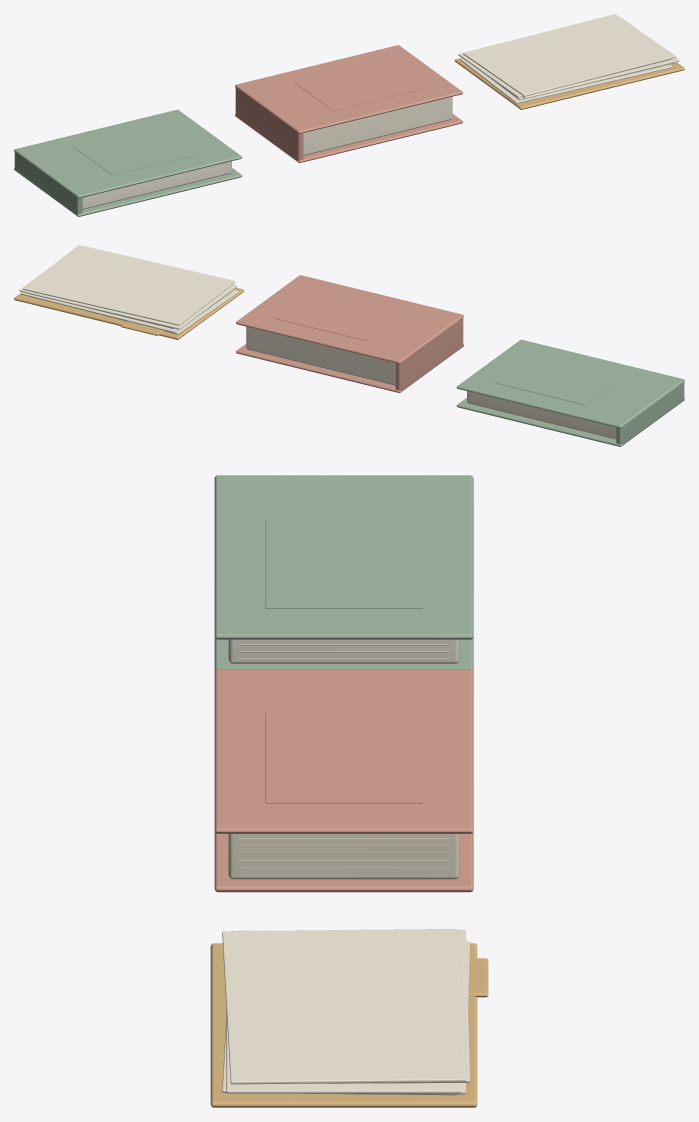
The model's file is lesson-stacks.glb.
3 views of the same model, one above another, from view 1: azimuth 30°, elevation 25°; view 2: azimuth 150°, elevation 25°; view 3: azimuth 270°, elevation 25° (orthographic). The views are drawn at different scales.
Visible parts, largest first — view 1: StackDocuments loose sheets 4, StackBook cover.001, StackVolume cover.001, StackBook cover inset, StackVolume cover inset, StackVolume pages, StackVolume spine, StackBook pages, StackDocuments folder, StackBook spine, StackVolume cover, StackBook cover (+3 smaller); view 2: StackDocuments loose sheets 4, StackBook cover.001, StackVolume cover.001, StackVolume cover inset, StackBook cover inset, StackVolume pages, StackVolume spine, StackBook pages, StackBook spine, StackDocuments folder, StackBook cover, StackVolume cover (+3 smaller); view 3: StackDocuments loose sheets 4, StackVolume cover.001, StackBook cover.001, StackBook cover inset, StackVolume cover inset, StackVolume pages, StackDocuments folder, StackBook pages, StackVolume cover, StackDocuments loose sheets 2, StackBook cover, StackDocuments loose sheets 3.
Part boxes in pixels (x1=…): StackDocuments loose sheets 4: x1=463, y1=14, x2=676, y2=96; StackBook cover.001: x1=14, y1=109, x2=242, y2=198; StackVolume cover.001: x1=235, y1=45, x2=462, y2=133; StackBook cover inset: x1=73, y1=124, x2=203, y2=175; StackVolume cover inset: x1=294, y1=59, x2=424, y2=110; StackVolume pages: x1=303, y1=96, x2=452, y2=155; StackVolume spine: x1=235, y1=85, x2=303, y2=160; StackBook pages: x1=82, y1=161, x2=231, y2=209; StackDocuments folder: x1=454, y1=58, x2=684, y2=109; StackBook spine: x1=14, y1=149, x2=82, y2=214; StackVolume cover: x1=235, y1=114, x2=462, y2=162; StackBook cover: x1=14, y1=168, x2=242, y2=216; StackDocuments loose sheets 4: x1=23, y1=245, x2=235, y2=325; StackBook cover.001: x1=456, y1=339, x2=684, y2=428; StackVolume cover.001: x1=236, y1=275, x2=463, y2=363; StackVolume cover inset: x1=274, y1=289, x2=404, y2=340; StackBook cover inset: x1=495, y1=354, x2=625, y2=405; StackVolume pages: x1=246, y1=326, x2=395, y2=385; StackVolume spine: x1=395, y1=315, x2=463, y2=390; StackBook pages: x1=467, y1=391, x2=616, y2=439; StackBook spine: x1=616, y1=382, x2=684, y2=444; StackDocuments folder: x1=14, y1=287, x2=244, y2=339; StackBook cover: x1=456, y1=398, x2=684, y2=446; StackVolume cover: x1=236, y1=344, x2=463, y2=392; StackDocuments loose sheets 4: x1=222, y1=929, x2=465, y2=1084; StackVolume cover.001: x1=214, y1=669, x2=473, y2=833; StackBook cover.001: x1=214, y1=475, x2=473, y2=639; StackBook cover inset: x1=265, y1=518, x2=422, y2=608; StackVolume cover inset: x1=265, y1=713, x2=422, y2=803; StackVolume pages: x1=228, y1=834, x2=459, y2=879; StackDocuments folder: x1=210, y1=943, x2=477, y2=1107; StackBook pages: x1=228, y1=639, x2=459, y2=664; StackVolume cover: x1=214, y1=831, x2=473, y2=892; StackDocuments loose sheets 2: x1=226, y1=1009, x2=461, y2=1093; StackBook cover: x1=214, y1=637, x2=473, y2=671; StackDocuments loose sheets 3: x1=238, y1=929, x2=470, y2=1083.
Size of the model in its own units: 3.57 by 0.184 by 0.7075.
